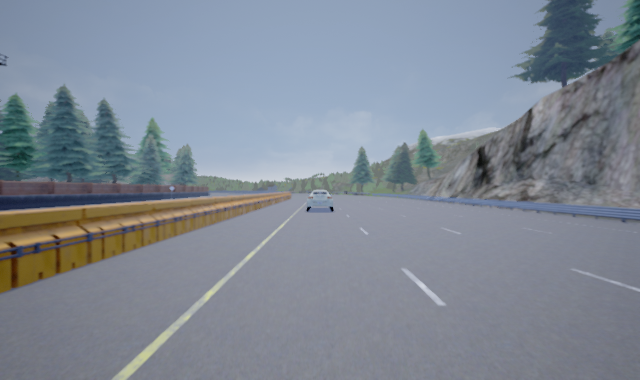vehicle: (305, 189, 334, 211)
